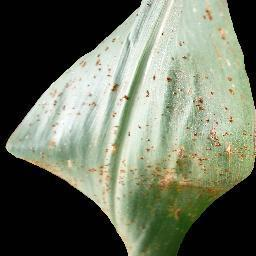Corn_Common_Rust: (7, 37, 199, 219), (198, 0, 256, 195), (110, 217, 146, 255), (133, 2, 154, 17), (159, 28, 178, 36)
